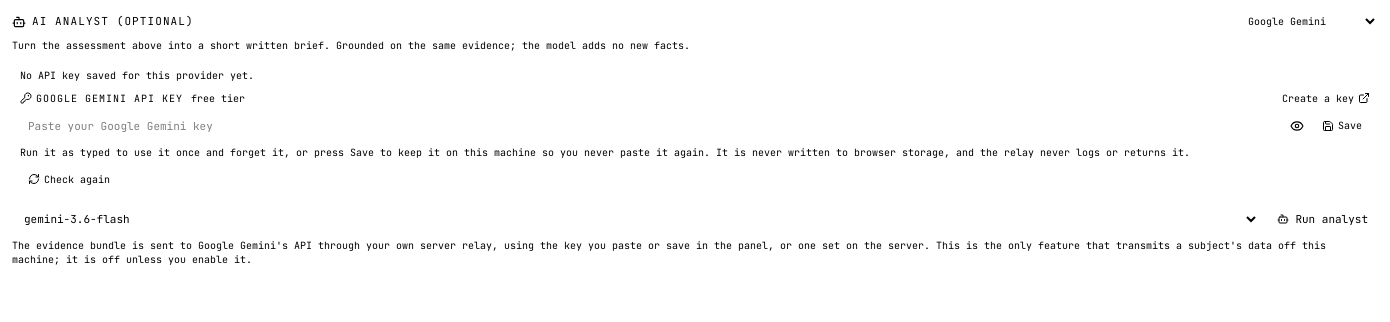
Scenario: <AiAnalystButton> setup › falls back to a suggested model name in the pull command when the box is blank
The image size is (1390, 322).
Select "Ollama (local)" in the dropdown named "Analyst provider". click: (1308, 22)
box: [1238,12,1378,31]
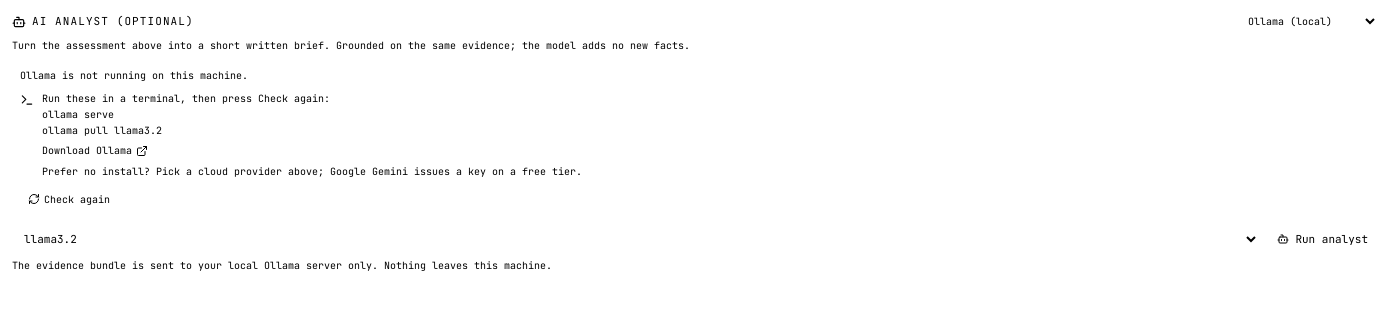
Select "Custom model…" in the dropdown named "Analyst model". click: (636, 239)
box: [12,227,1259,251]
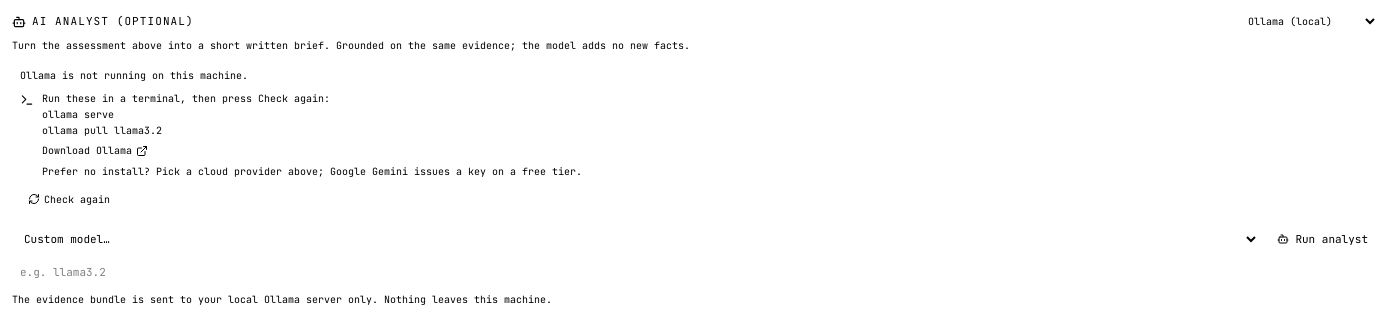
Expected: the text "ollama pull llama3.2" is shown, [42,124,162,137]
Expected: the field named "Custom model name" is empty, [12,260,1378,285]
